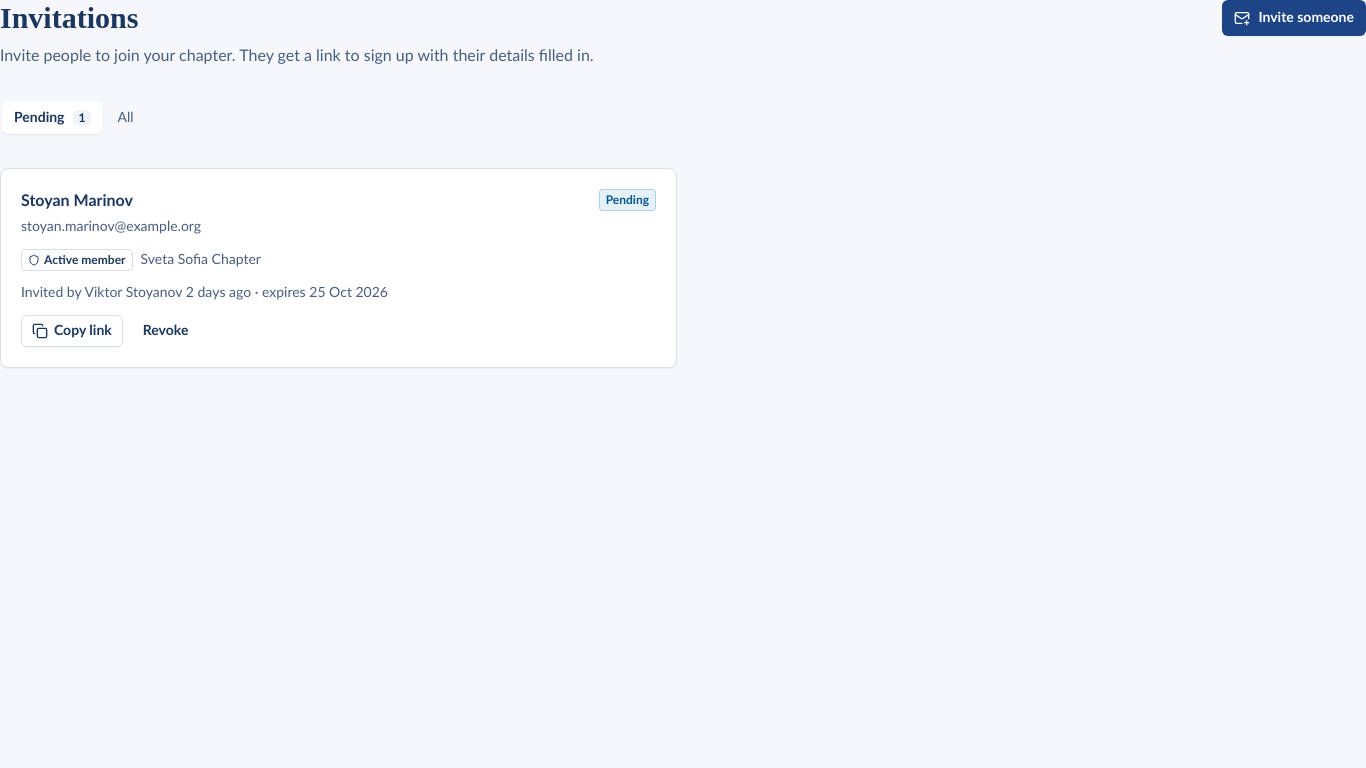
Test: InvitationsPage › revokes an open invitation after confirmation
This screenshot has width=1366, height=768.
Expected: the heading "Stoyan Marinov" is shown, [21,193,133,209]
Click the button with aria-label "Revoke the invitation for Stoyan Marinov": point(166, 331) [131,315,200,347]
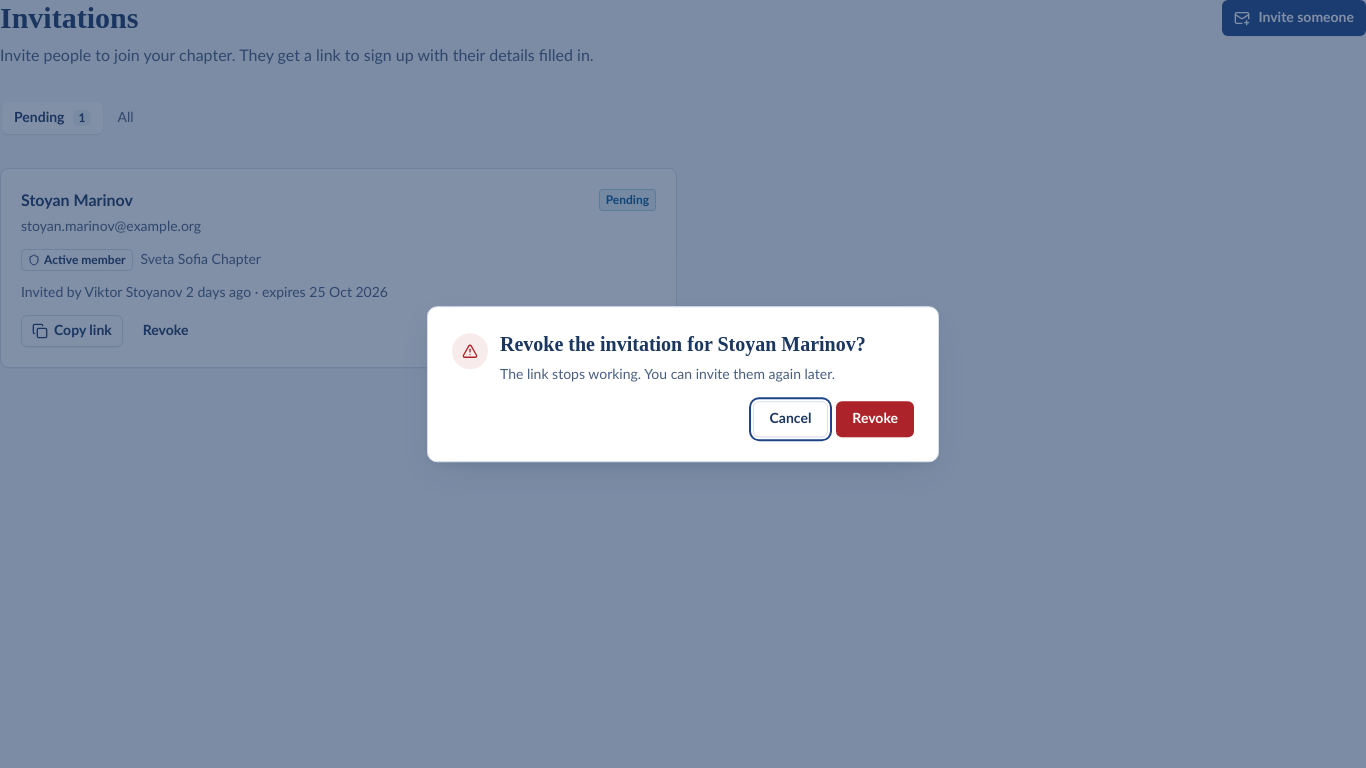
Click the button "Revoke": point(875, 419) [836,401,914,437]
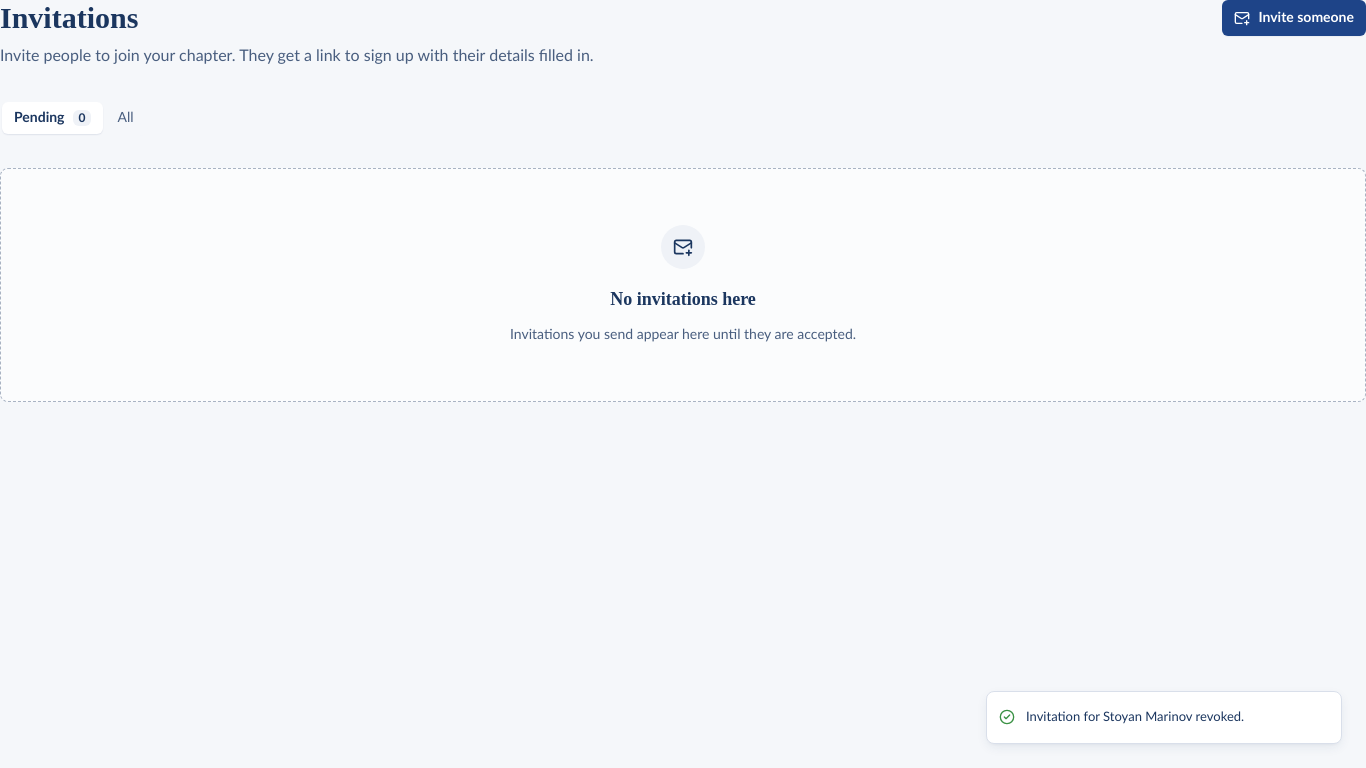
Now the text "Invitation for Stoyan Marinov revoked." is shown, box [1026,708,1244,727]
